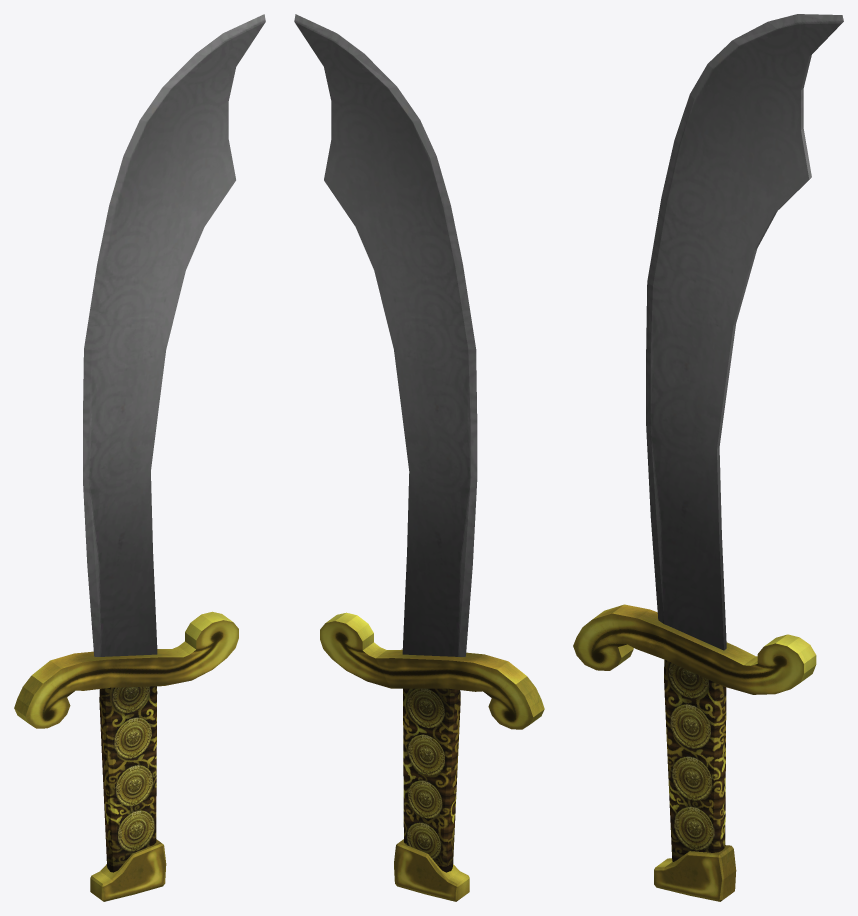
Rendered from Magician Sword.obj.
3 renders of one model, left to right at view 1: azimuth 30°, elevation 25°; view 2: azimuth 150°, elevation 25°; view 3: azimuth 330°, elevation 25°, orthographic. The views are drawn at different scales.
Visible parts, largest first — view 1: Mesh_0136.rip_Mesh_01; view 2: Mesh_0136.rip_Mesh_01; view 3: Mesh_0136.rip_Mesh_01.
Part boxes in pixels (x1=…): Mesh_0136.rip_Mesh_01: x1=14, y1=14, x2=265, y2=901; Mesh_0136.rip_Mesh_01: x1=294, y1=14, x2=544, y2=901; Mesh_0136.rip_Mesh_01: x1=573, y1=14, x2=843, y2=901.
Bounding box in the file's own units: 0.223 × 0.736 × 0.022.
1 material, 1 textured.
